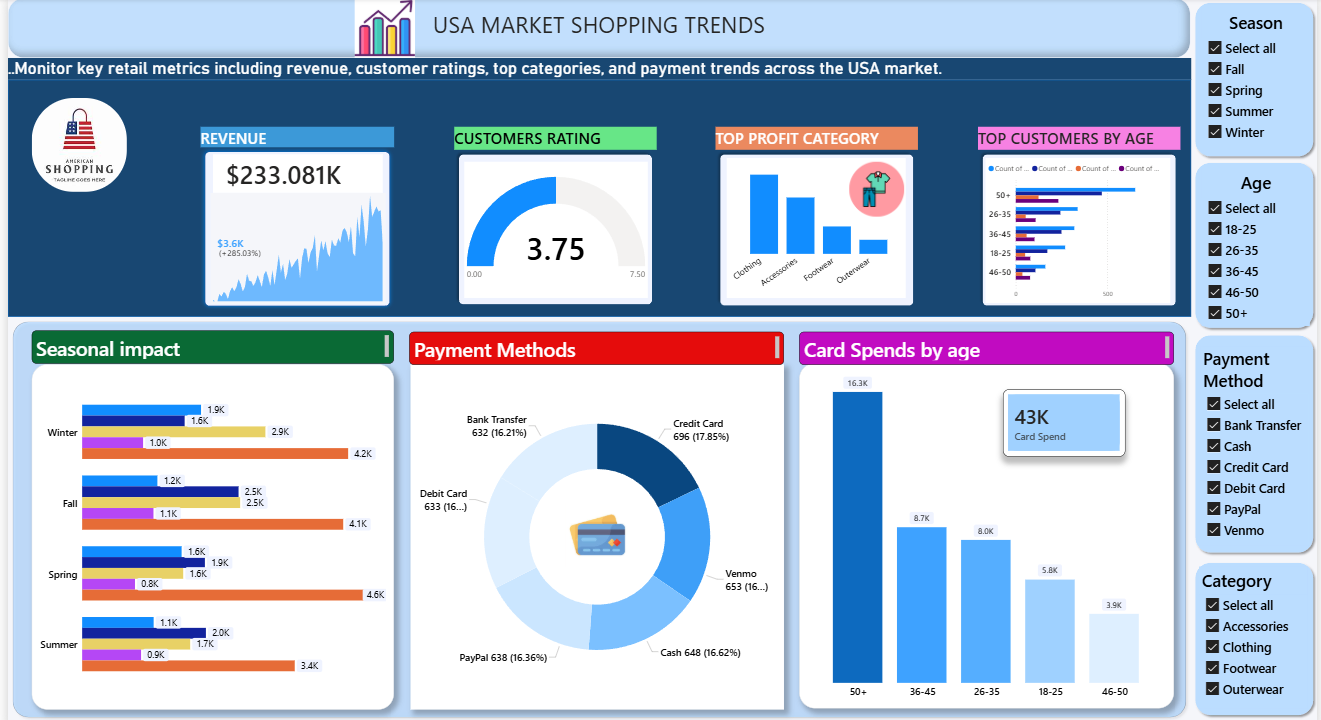

The dashboard page shown, as its layout file describes it:
{"tool":"powerbi","page":{"name":"Market Trends","canvas":[2500,1400],"ordinal":1},"visuals":[{"type":"shape","title":"..Monitor key retail metrics including revenue, customer ratings, top categories, and payment trends across the USA market.","box":[0,114.9,2258.2,494],"z":0},{"type":"shape","box":[0,608.5,2257.6,773.7],"z":1000},{"type":"textbox","box":[0,0,2257,114.5],"z":2000},{"type":"shape","title":"REVENUE","box":[367.4,245.7,369.8,350.7],"z":3000},{"type":"shape","title":"CUSTOMERS RATING","box":[850.6,246.9,386.5,348.3],"z":4000},{"type":"cardVisual","fields":{"Data":["project_shopping_trends.Total_Revenue"]},"box":[386.5,293.9,334,83.5],"z":5000},{"type":"shape","title":"TOP PROFIT CATEGORY","box":[1350.5,245.7,386.5,350.7],"z":6000},{"type":"kpi","fields":{"TrendLine":["project_shopping_trends.Purchase_Amount_USD"],"Indicator":["project_shopping_trends.Total_Revenue"],"Goal":["Sum(project_shopping_trends.Previous_Purchases)"]},"box":[386.5,372.7,334,212.3],"z":7000},{"type":"shape","title":"TOP CUSTOMERS BY AGE","box":[1850.5,245.7,386.5,350.7],"z":8000},{"type":"clusteredBarChart","fields":{"Y":["CountNonNull(project_shopping_trends.Clothing)","CountNonNull(project_shopping_trends.Accessories)","CountNonNull(project_shopping_trends.Outerwear)","CountNonNull(project_shopping_trends.Footwear)"],"Category":["project_shopping_trends.Age Group"]},"box":[1865.7,305.4,353.1,276.8],"z":9000},{"type":"gauge","fields":{"Y":["Avg(project_shopping_trends.Review_Rating)"]},"box":[870.8,312.5,350.7,260.1],"z":10000},{"type":"clusteredBarChart","fields":{"Y":["project_shopping_trends.Card Spend"],"Category":["avg spend season.season"],"Series":["project_shopping_trends.Age Group"]},"box":[46.2,698.2,690.9,659.3],"z":11000},{"type":"textbox","box":[46.2,635,690.9,63.3],"z":12000},{"type":"donutChart","fields":{"Category":["project_shopping_trends.Payment_Method"],"Y":["CountNonNull(project_shopping_trends.Preferred_Payment_Method)"]},"box":[768.8,698.2,712.8,659.3],"z":13000},{"type":"clusteredColumnChart","fields":{"Category":["project_shopping_trends.Age Group"],"Y":["project_shopping_trends.Card Spend"]},"box":[1510.8,695.8,715.3,659.3],"z":14000},{"type":"textbox","box":[766.4,637.4,715.3,63.3],"z":15000},{"type":"textbox","box":[1510.8,637.4,715.3,63.3],"z":16000},{"type":"cardVisual","fields":{"Data":["project_shopping_trends.Card Spend"]},"box":[1899.1,746.8,233.8,128.8],"z":17000},{"type":"shape","box":[2257.7,0,243.3,311.4],"z":18000},{"type":"slicer","title":"Season","fields":{"Values":["avg spend season.season"]},"box":[2279.6,19.5,206.8,272.5],"z":19000},{"type":"shape","box":[2257.7,306.5,243.3,333.3],"z":20000},{"type":"shape","box":[2257.7,635,243.3,433.1],"z":21000},{"type":"slicer","title":"Age","fields":{"Values":["project_shopping_trends.Age Group"]},"box":[2279.6,323.6,206.8,301.7],"z":22000},{"type":"slicer","title":"Payment Method","fields":{"Values":["project_shopping_trends.Payment_Method"]},"box":[2277.2,666.6,206.8,379.5],"z":23000},{"type":"shape","box":[2257.7,1068,243.3,309],"z":24000},{"type":"slicer","title":"Category","fields":{"Values":["project_shopping_trends.Category"]},"box":[2274.7,1085.1,206.8,270],"z":25000},{"type":"image","box":[45.3,190.9,181.3,178.9],"z":26000},{"type":"clusteredColumnChart","fields":{"Category":["project_shopping_trends.Category"],"Y":["project_shopping_trends.Total Profit"]},"box":[1371.6,306,341.8,267.2],"z":27000},{"type":"image","box":[656.1,0,126.4,114.5],"z":28000},{"type":"image","box":[1603.3,312.5,109.7,105],"z":29000},{"type":"image","box":[1061.7,963.9,126.4,121.7],"z":30000}]}

Visuals, with their boxes in screenshot pixels (x1, y1, x2, y2), scaled from the page's 2500x1400 canvas onto the 1321x720 screenshot:
"..Monitor key retail metrics including revenue, customer ratings, top categories, and payment trends across the USA market." shape: 0, 59, 1193, 313
shape: 0, 313, 1193, 711
textbox: 0, 0, 1193, 59
"REVENUE" shape: 194, 126, 390, 307
"CUSTOMERS RATING" shape: 449, 127, 654, 306
cardVisual - project_shopping_trends.Total_Revenue: 204, 151, 381, 194
"TOP PROFIT CATEGORY" shape: 714, 126, 918, 307
kpi - project_shopping_trends.Purchase_Amount_USD x project_shopping_trends.Total_Revenue: 204, 192, 381, 301
"TOP CUSTOMERS BY AGE" shape: 978, 126, 1182, 307
clusteredBarChart - CountNonNull(project_shopping_trends.Clothing) x CountNonNull(project_shopping_trends.Accessories): 986, 157, 1172, 299
gauge - Avg(project_shopping_trends.Review_Rating): 460, 161, 645, 294
clusteredBarChart - project_shopping_trends.Card Spend x avg spend season.season: 24, 359, 389, 698
textbox: 24, 327, 389, 359
donutChart - project_shopping_trends.Payment_Method x CountNonNull(project_shopping_trends.Preferred_Payment_Method): 406, 359, 783, 698
clusteredColumnChart - project_shopping_trends.Age Group x project_shopping_trends.Card Spend: 798, 358, 1176, 697
textbox: 405, 328, 783, 360
textbox: 798, 328, 1176, 360
cardVisual - project_shopping_trends.Card Spend: 1003, 384, 1127, 450
shape: 1193, 0, 1320, 160
"Season" slicer: 1205, 10, 1314, 150
shape: 1193, 158, 1320, 329
shape: 1193, 327, 1320, 549
"Age" slicer: 1205, 166, 1314, 322
"Payment Method" slicer: 1203, 343, 1313, 538
shape: 1193, 549, 1320, 708
"Category" slicer: 1202, 558, 1311, 697
image: 24, 98, 120, 190
clusteredColumnChart - project_shopping_trends.Category x project_shopping_trends.Total Profit: 725, 157, 905, 295
image: 347, 0, 413, 59
image: 847, 161, 905, 215
image: 561, 496, 628, 558
